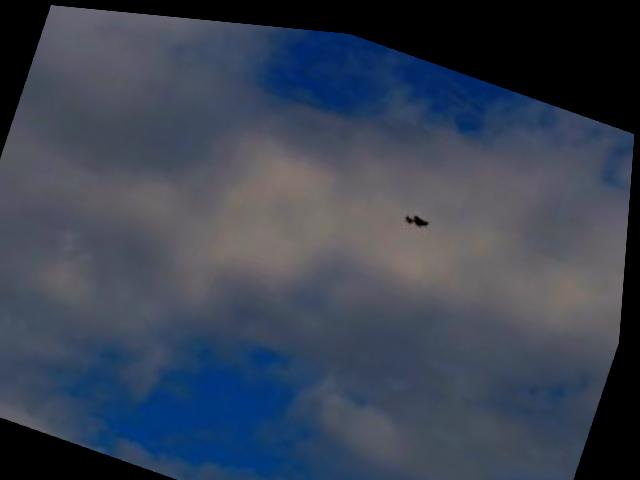uav: (403, 196, 437, 226)
